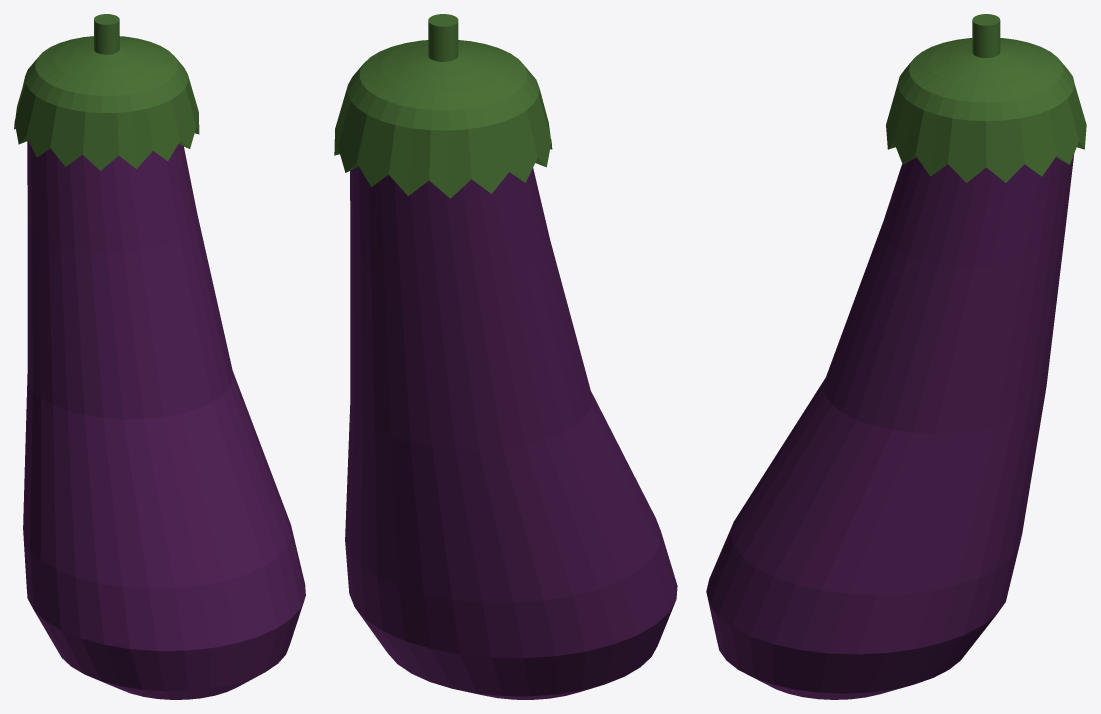
File: EggPlant.fbx
The picture shows the model from 3 angles, left to right: view 1: azimuth 30°, elevation 25°; view 2: azimuth 150°, elevation 25°; view 3: azimuth 270°, elevation 25°; orthographic projection. The views are drawn at different scales.
Parts seen in each view (by area): view 1: Body; view 2: Body; view 3: Body.
Part boxes in pixels (x1=…): Body: x1=14, y1=14, x2=305, y2=699; Body: x1=334, y1=14, x2=677, y2=699; Body: x1=706, y1=14, x2=1086, y2=699.
Size of the model in its own units: 17.92 by 42.81 by 22.54.
